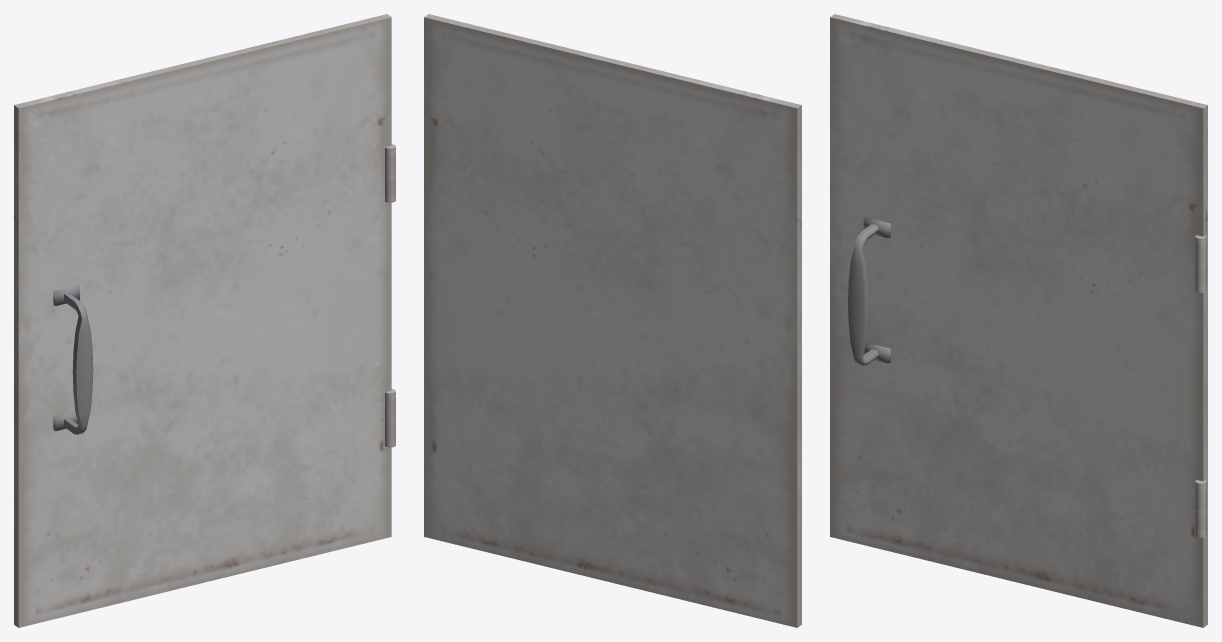
File: SM_Filecabinet_03_fc3_door.fbx
3 renders of one model, left to right at view 1: azimuth 30°, elevation 25°; view 2: azimuth 150°, elevation 25°; view 3: azimuth 330°, elevation 25°, orthographic.
Visible parts, largest first — view 1: SM_Filecabinet_03_fc3_door; view 2: SM_Filecabinet_03_fc3_door; view 3: SM_Filecabinet_03_fc3_door.
Part boxes in pixels (left/top/right/bottom): SM_Filecabinet_03_fc3_door: left=14, top=14, right=395, bottom=627; SM_Filecabinet_03_fc3_door: left=424, top=14, right=801, bottom=627; SM_Filecabinet_03_fc3_door: left=830, top=14, right=1207, bottom=627.
Bounding box in the file's own units: 36.43 × 4.33 × 48.05.
1 material, 1 textured.
